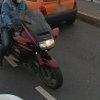Motorcycle: (7, 10, 70, 94)
